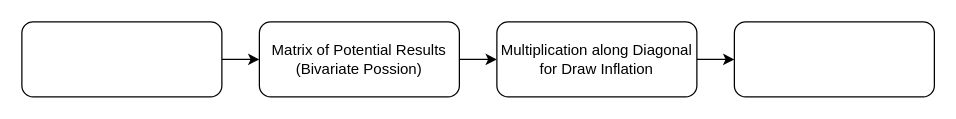
The diagram is 956 pixels wide and 119 high, and some of its shapes have lost their labels. Here are the shapes that lost their labels. From the top down, the centre of each, then its label:
At point (121, 59): "Numeric Team Ratings".
At point (833, 59): "Win/Loss/Draw Probabilities from Summing Matrix".
